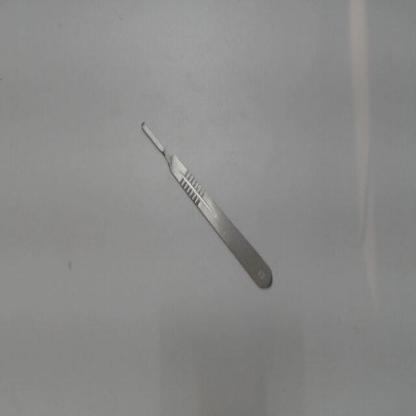No.4 BP Handle: (136, 114, 277, 292)
